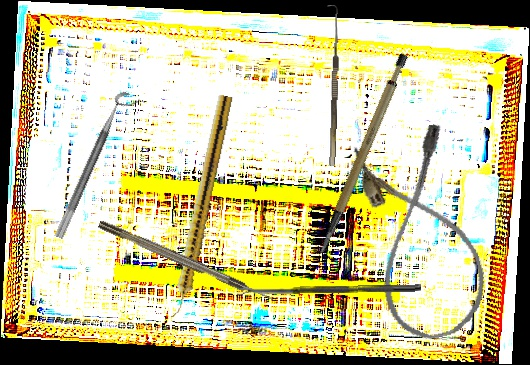Cannula: (347, 121, 497, 348)
Fixation Ring: (53, 89, 141, 245)
Handpiece: (166, 93, 234, 321)
Hook Surgical: (97, 218, 275, 305), (321, 4, 341, 167)
Scalpel Handle: (287, 50, 435, 257)
Surgical Spoon: (236, 283, 422, 295)
